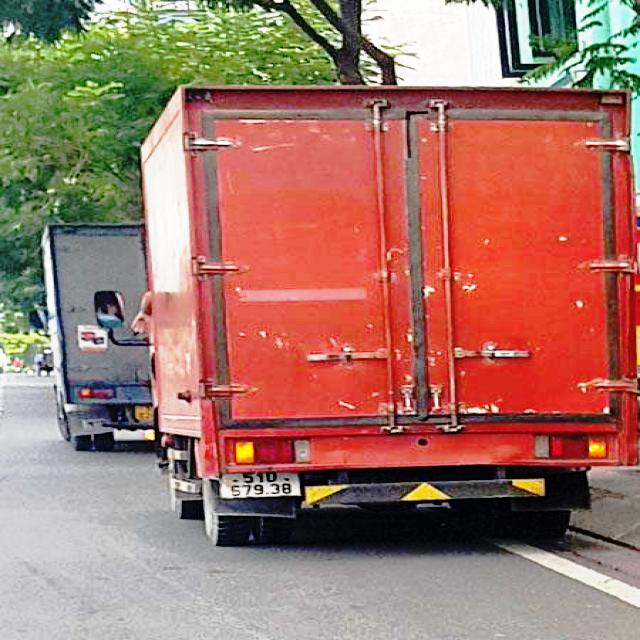license_plate: (222, 472, 303, 499)
